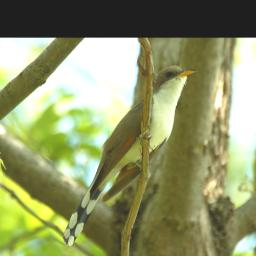Cuckoo: (64, 66, 197, 245)
